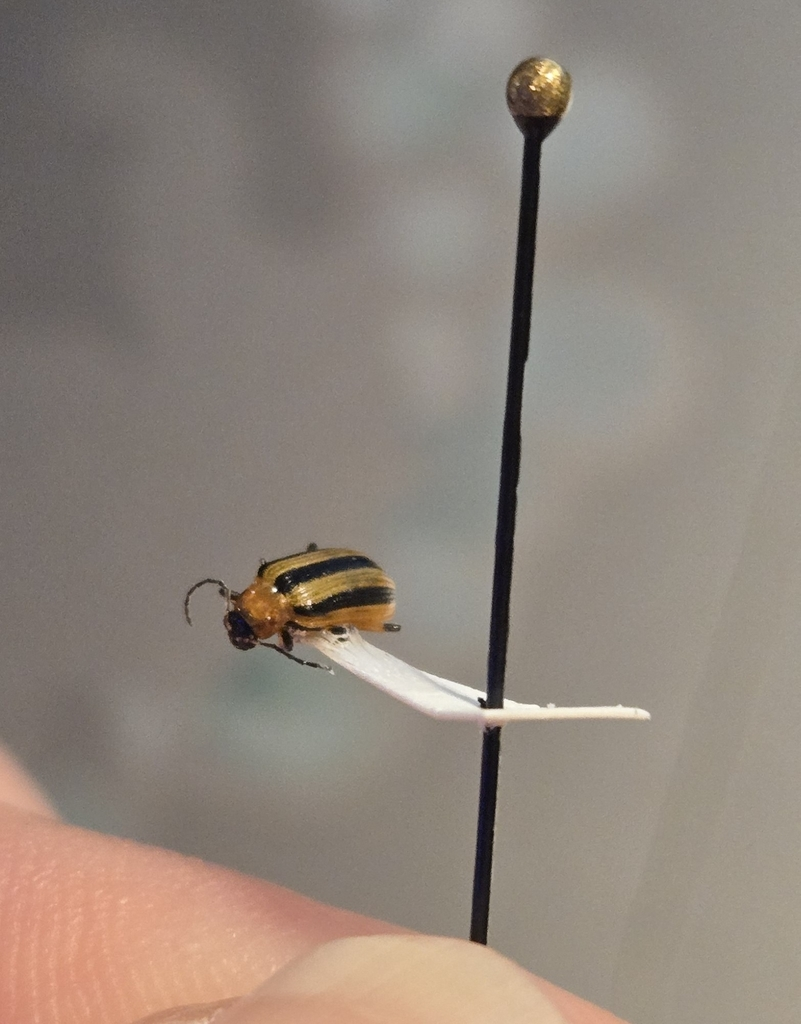potato_beetle: (138, 488, 452, 728)
